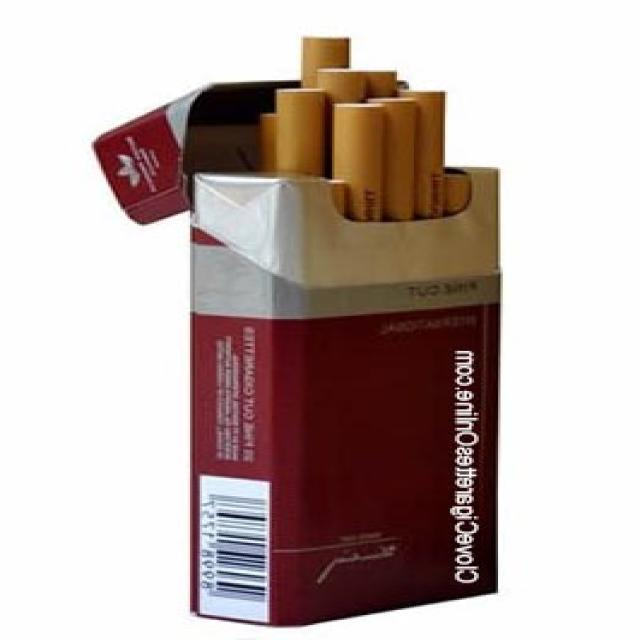dunhill: (90, 38, 512, 628)
